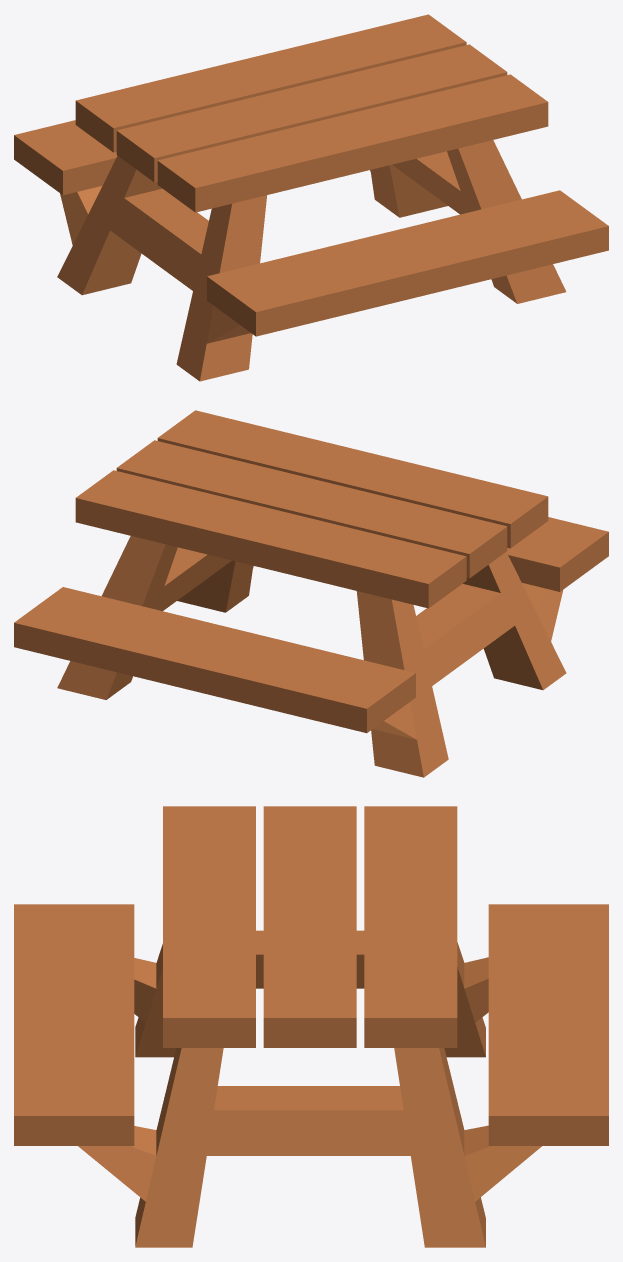
Rendered from Mesa.fbx.
The picture shows the model from 3 angles, top to bottom: view 1: azimuth 30°, elevation 25°; view 2: azimuth 150°, elevation 25°; view 3: azimuth 270°, elevation 25°; orthographic projection. The views are drawn at different scales.
Parts seen in each view (by area): view 1: Mesa; view 2: Mesa; view 3: Mesa.
Part boxes in pixels (x1,y1,x2,y2): Mesa: (14,14,608,381); Mesa: (14,410,608,777); Mesa: (14,806,608,1247).
Bounding box in the file's own units: 419 × 200 × 479.
